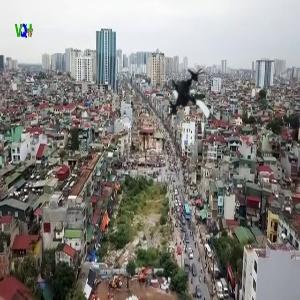drone: (157, 69, 225, 137)
